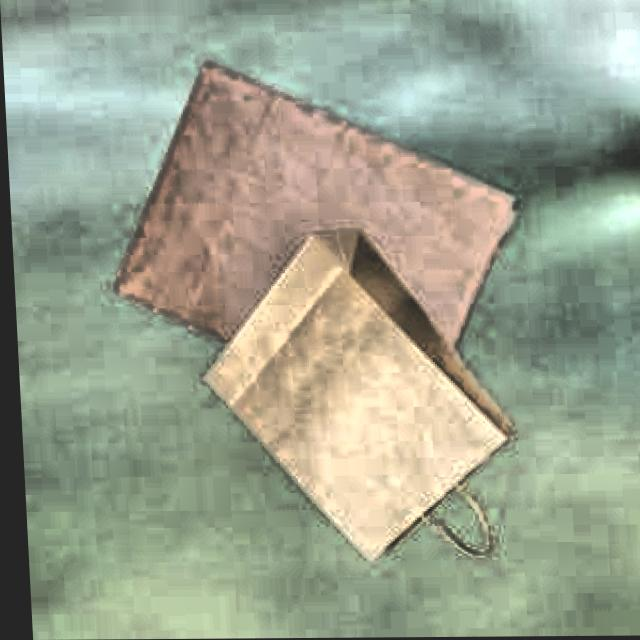Paper-bag: (98, 49, 525, 407), (203, 213, 516, 578)
